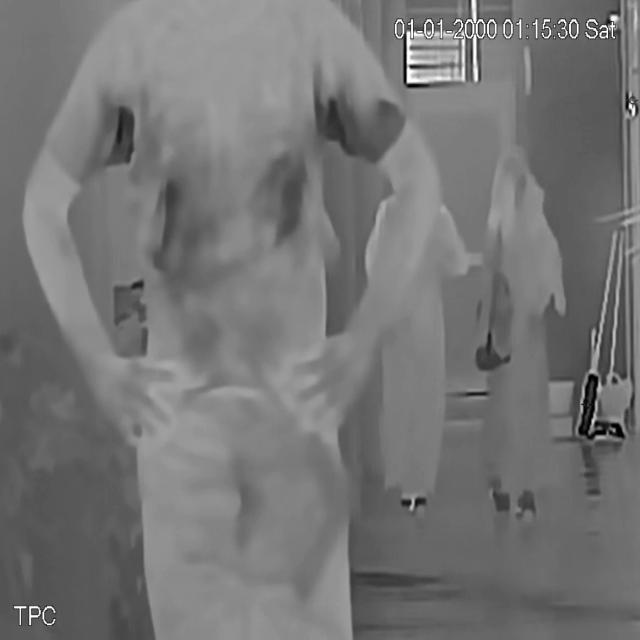Weapon: (282, 428, 356, 602)
